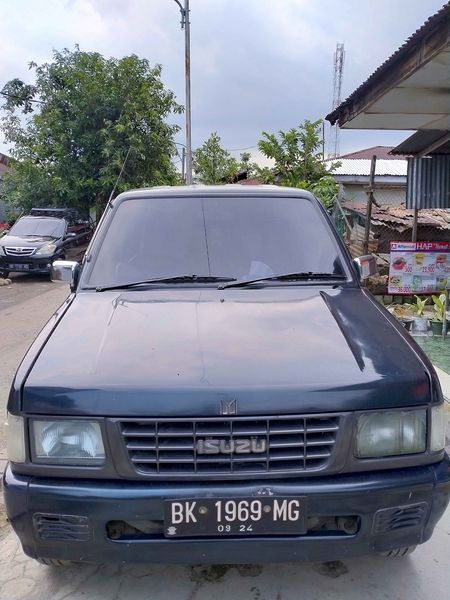plate: (159, 497, 307, 536)
